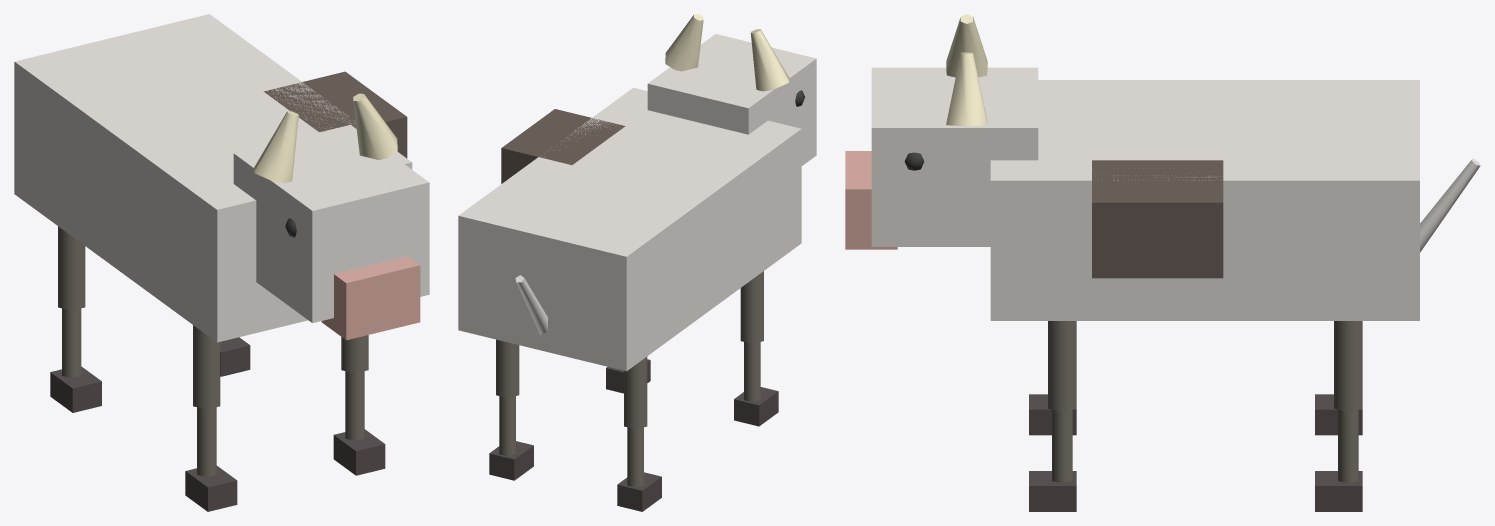
File: cow_full.gltf
The picture shows the model from 3 angles, left to right: view 1: azimuth 30°, elevation 25°; view 2: azimuth 150°, elevation 25°; view 3: azimuth 270°, elevation 25°; orthographic projection. The views are drawn at different scales.
Parts seen in each view (by area): view 1: cow_body, cow_head, cow_snout, cow_patch, cow_leg_upper_FR, cow_leg_upper_RR, cow_horn_L, cow_horn_R, cow_hoof_FL, cow_hoof_FR, cow_hoof_RR, cow_leg_lower_RR (+4 smaller); view 2: cow_body, cow_head, cow_patch, cow_leg_upper_RR, cow_leg_upper_FR, cow_horn_L, cow_horn_R, cow_leg_upper_RL, cow_hoof_FR, cow_hoof_RR, cow_hoof_RL, cow_leg_lower_RL (+4 smaller); view 3: cow_body, cow_head, cow_patch, cow_snout, cow_leg_upper_FL, cow_leg_upper_RL, cow_horn_R, cow_hoof_FL, cow_hoof_RL, cow_leg_lower_FL, cow_leg_lower_RL, cow_horn_L (+3 smaller).
Part boxes in pixels (x1=…): cow_body: x1=14, y1=14, x2=412, y2=342; cow_head: x1=233, y1=125, x2=429, y2=323; cow_snout: x1=321, y1=256, x2=420, y2=340; cow_patch: x1=263, y1=71, x2=407, y2=158; cow_leg_upper_FR: x1=193, y1=325, x2=220, y2=409; cow_leg_upper_RR: x1=58, y1=226, x2=85, y2=310; cow_horn_L: x1=254, y1=111, x2=298, y2=183; cow_horn_R: x1=353, y1=93, x2=397, y2=159; cow_hoof_FL: x1=333, y1=429, x2=385, y2=475; cow_hoof_FR: x1=185, y1=465, x2=237, y2=511; cow_hoof_RR: x1=50, y1=366, x2=101, y2=412; cow_leg_lower_RR: x1=62, y1=308, x2=81, y2=378; cow_body: x1=458, y1=87, x2=801, y2=371; cow_head: x1=647, y1=34, x2=816, y2=165; cow_patch: x1=501, y1=109, x2=625, y2=183; cow_leg_upper_RR: x1=624, y1=356, x2=647, y2=429; cow_leg_upper_FR: x1=740, y1=271, x2=763, y2=343; cow_horn_L: x1=750, y1=29, x2=789, y2=91; cow_horn_R: x1=665, y1=14, x2=703, y2=71; cow_leg_upper_RL: x1=496, y1=339, x2=519, y2=397; cow_hoof_FR: x1=734, y1=387, x2=778, y2=426; cow_hoof_RR: x1=617, y1=472, x2=661, y2=511; cow_hoof_RL: x1=489, y1=441, x2=533, y2=480; cow_leg_lower_RL: x1=499, y1=396, x2=515, y2=456; cow_body: x1=990, y1=80, x2=1419, y2=320; cow_head: x1=871, y1=67, x2=1038, y2=246; cow_patch: x1=1092, y1=160, x2=1223, y2=278; cow_snout: x1=845, y1=151, x2=897, y2=249; cow_leg_upper_FL: x1=1048, y1=321, x2=1076, y2=411; cow_leg_upper_RL: x1=1334, y1=321, x2=1362, y2=411; cow_horn_R: x1=946, y1=52, x2=987, y2=126; cow_hoof_FL: x1=1029, y1=471, x2=1076, y2=511; cow_hoof_RL: x1=1315, y1=471, x2=1362, y2=511; cow_leg_lower_FL: x1=1052, y1=409, x2=1072, y2=483; cow_leg_lower_RL: x1=1338, y1=409, x2=1358, y2=483; cow_horn_L: x1=946, y1=14, x2=987, y2=77.
Size of the model in its own units: 1.22 by 2 by 2.66.
